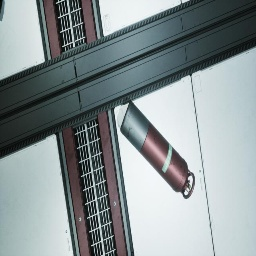NitrogenTank ,: (120, 101, 195, 199)
